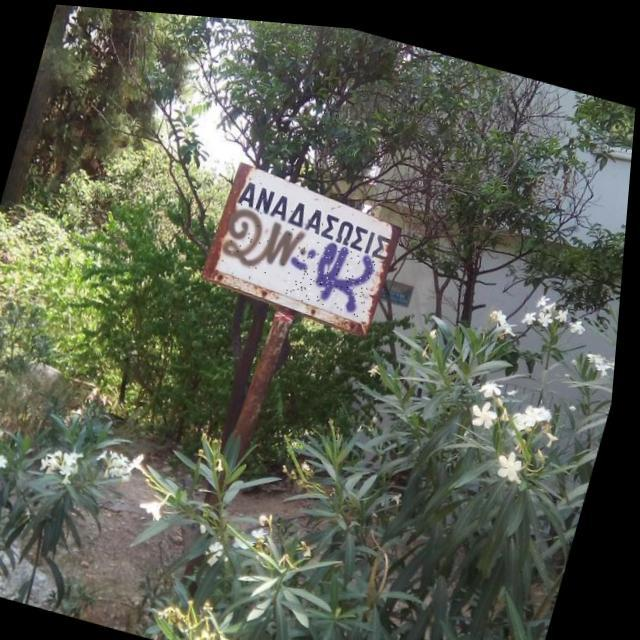-: (286, 230, 384, 312), (223, 197, 315, 277)
